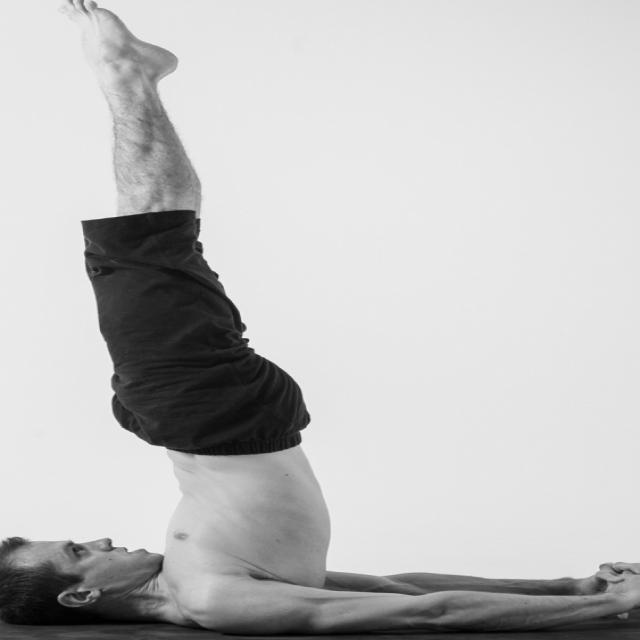yoga-pose shoulderstand: (3, 0, 484, 640)
